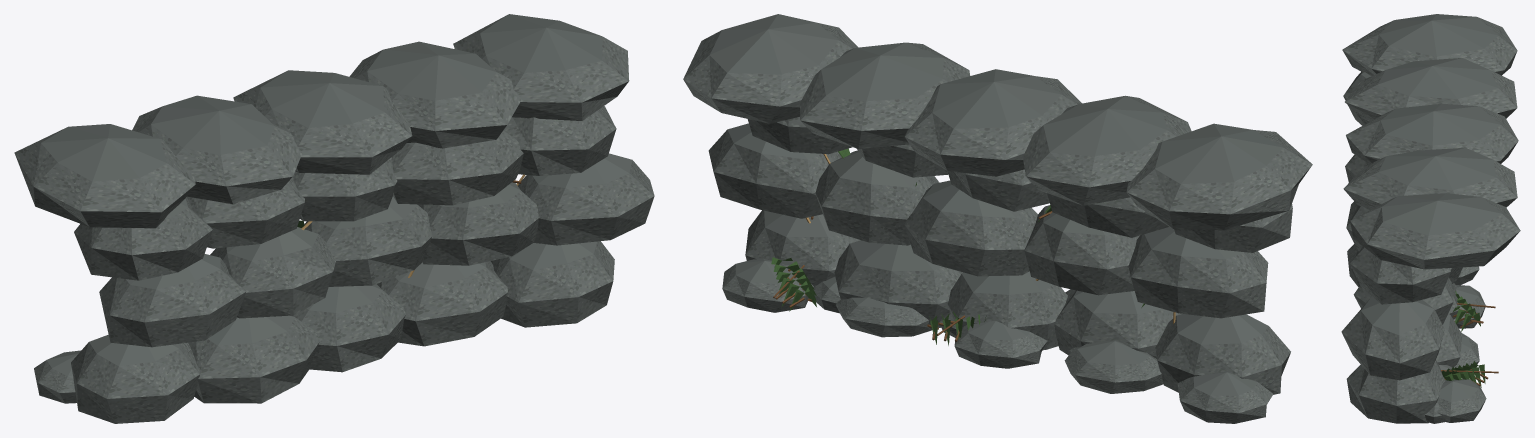
Rendered from en-012_rock_wall_module__ledge.obj.
3 renders of one model, left to right at view 1: azimuth 30°, elevation 25°; view 2: azimuth 150°, elevation 25°; view 3: azimuth 270°, elevation 25°, orthographic. The views are drawn at different scales.
Parts seen in each view (by area): view 1: en-012_rock_wall_module__ledge; view 2: en-012_rock_wall_module__ledge; view 3: en-012_rock_wall_module__ledge.
Boxes of the visible parts, x1,y1,x2,y2 form: en-012_rock_wall_module__ledge: (14,14,654,423); en-012_rock_wall_module__ledge: (683,14,1312,423); en-012_rock_wall_module__ledge: (1341,14,1520,423).
Size of the model in its own units: 3.6 by 1.48 by 1.13.
Materials: 4 (4 with a texture image).
